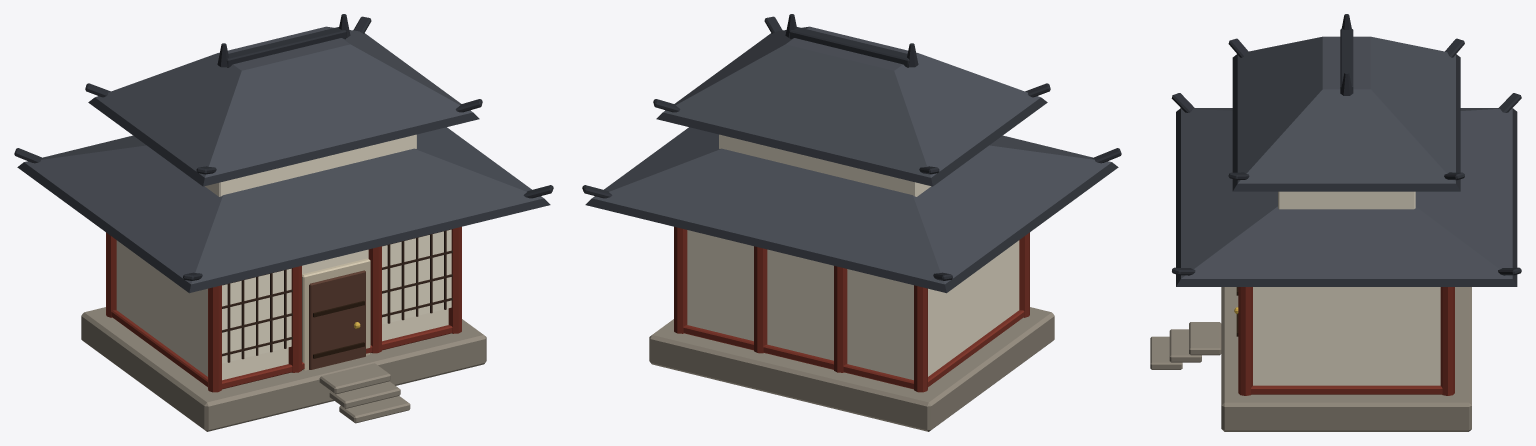
The model's file is house_eastasia.glb.
3 views of the same model, side by side, from view 1: azimuth 30°, elevation 25°; view 2: azimuth 150°, elevation 25°; view 3: azimuth 270°, elevation 25° (orthographic).
Visible parts, largest first — view 1: house_eastasia; view 2: house_eastasia; view 3: house_eastasia.
Part boxes in pixels (box(x1,y1,x2,y2)): house_eastasia: box(14, 14, 553, 431); house_eastasia: box(582, 14, 1121, 431); house_eastasia: box(1150, 14, 1521, 431).
Bounding box in the file's own units: 2.62 × 2.19 × 2.3.
